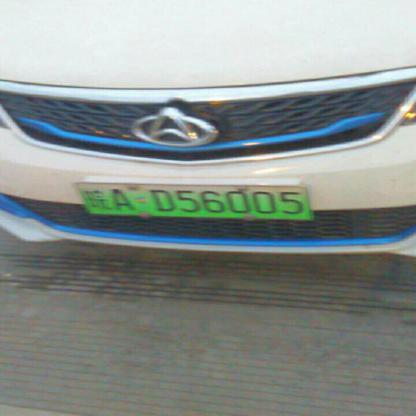lp: (76, 183, 312, 219)
